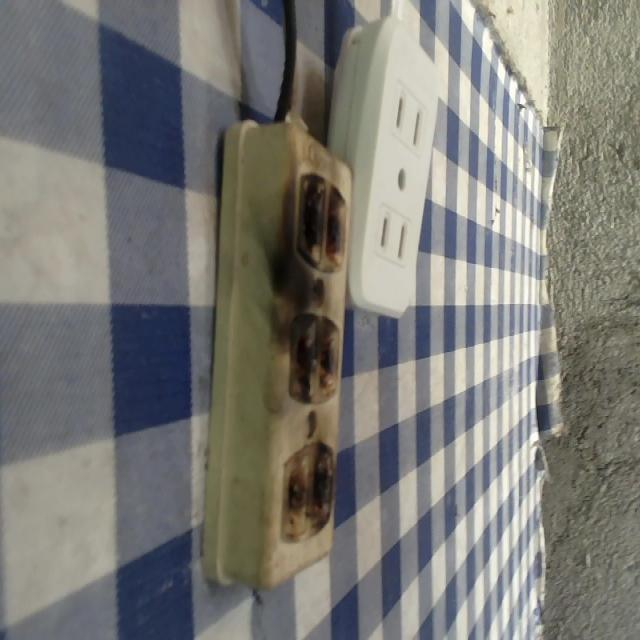-: (276, 437, 336, 544), (290, 165, 348, 272), (286, 310, 342, 406)
